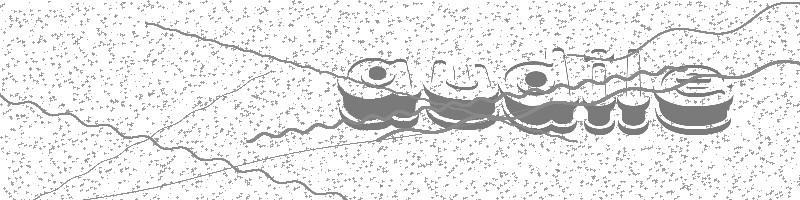a: (337, 53, 423, 134)
d: (500, 46, 581, 137)
e: (651, 57, 736, 137)
i: (585, 44, 617, 135)
l: (617, 42, 653, 137)
u: (424, 56, 501, 134)
